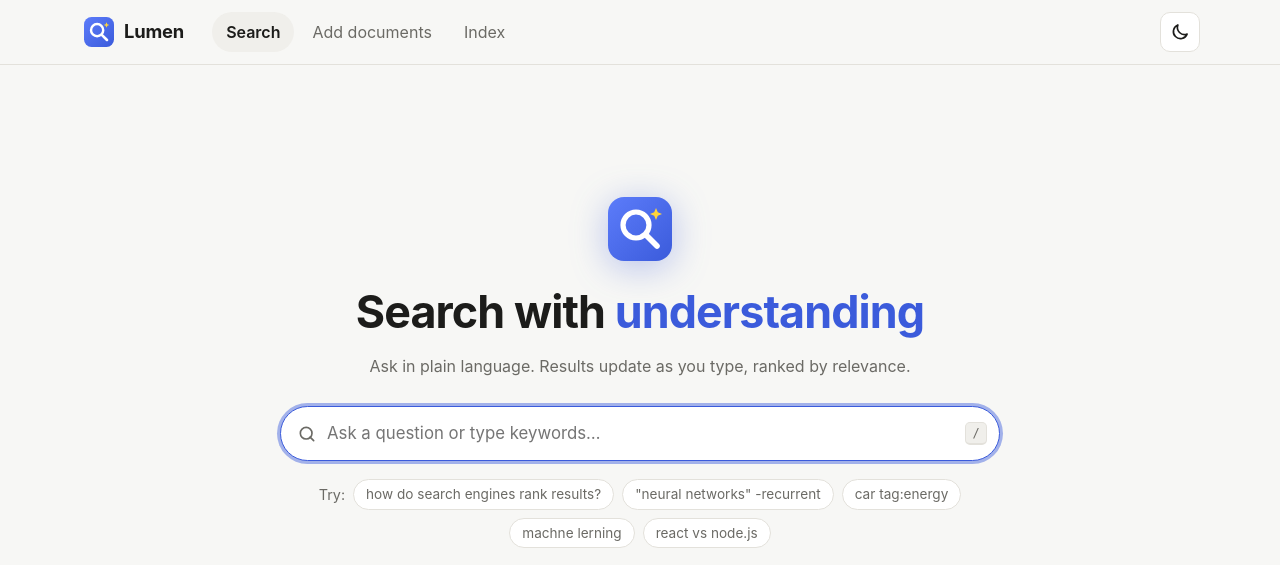
Test case: Theme and accessibility › asks for confirmation before deleting a document
Click the button "Index".
click(485, 32)  # box 450,12 -> 519,52
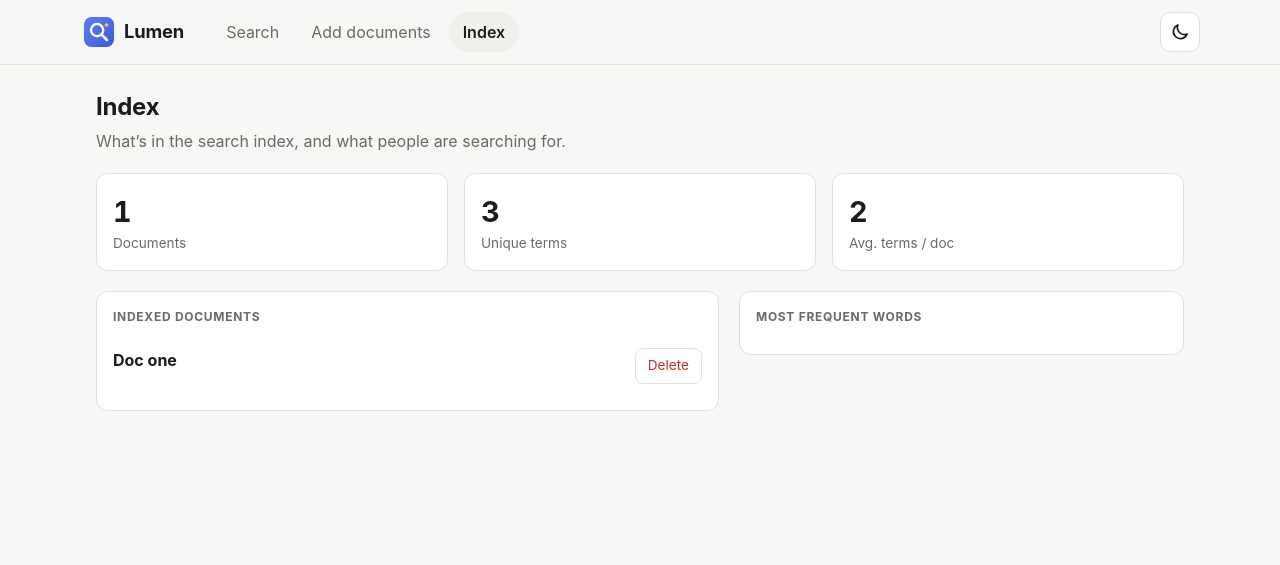
Click the button with aria-label "Delete Doc one".
click(668, 366)  # box 635,348 -> 702,384
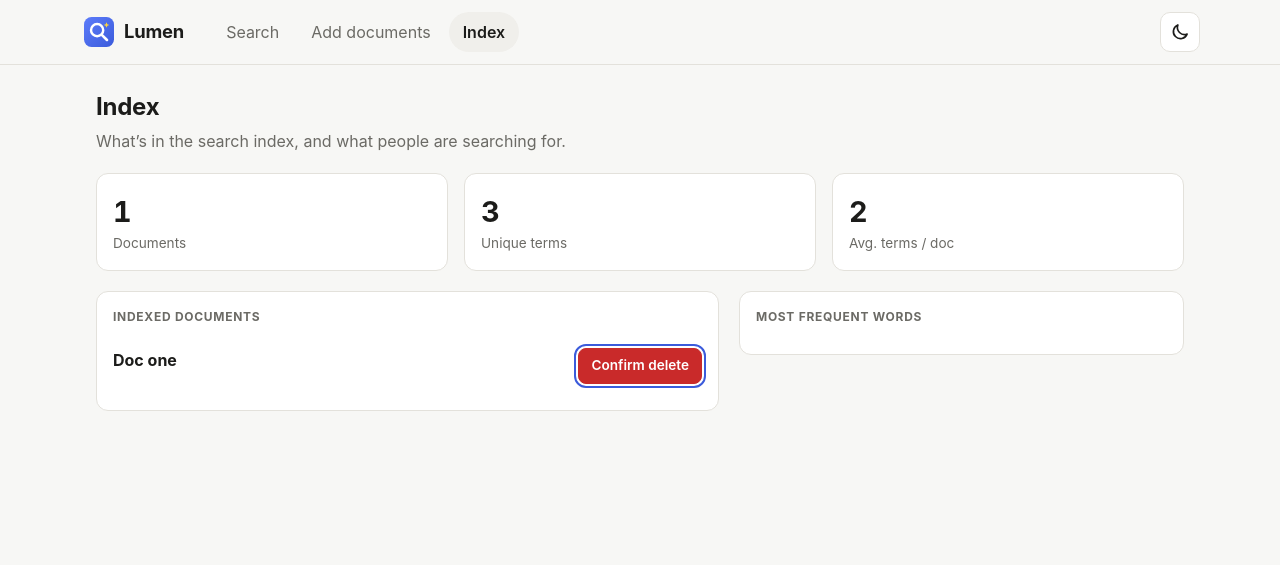
Click the button with aria-label "Confirm deleting Doc one".
click(640, 366)  # box 578,348 -> 702,384
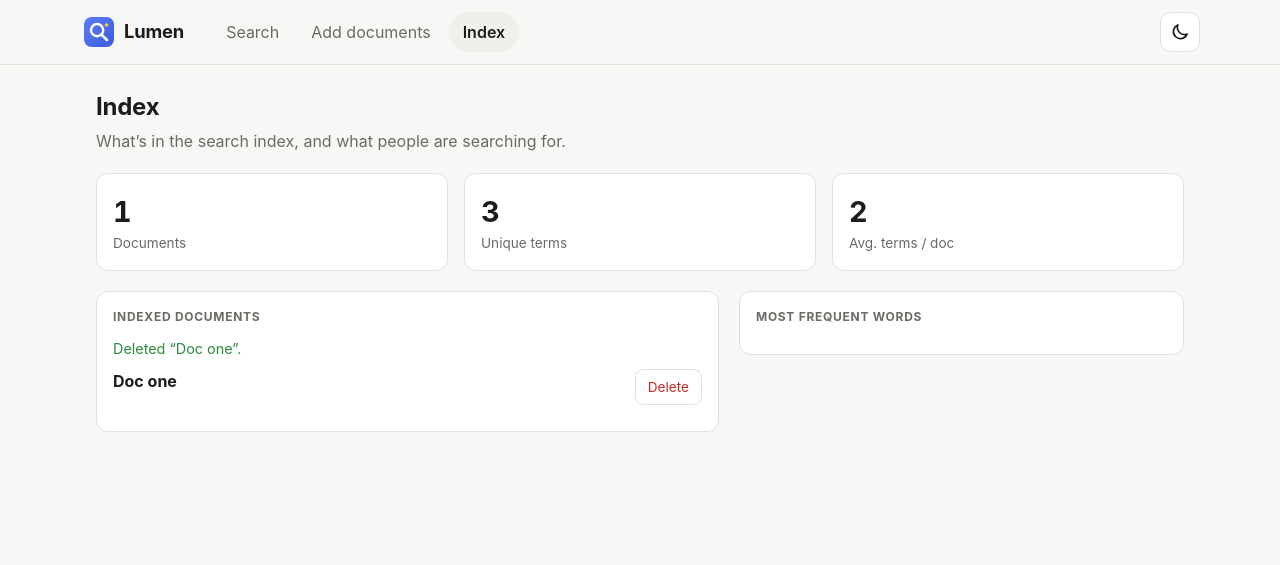
Result: the text "Deleted “Doc one”." is shown at 113,340 -> 241,357
